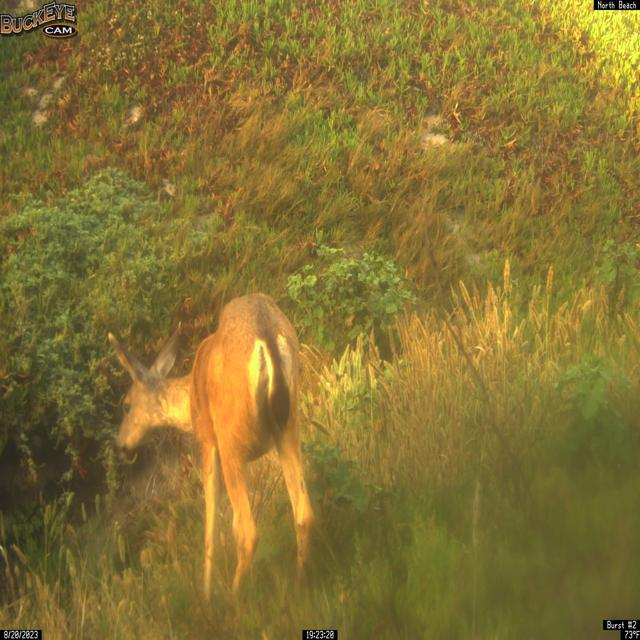deer: (108, 291, 317, 613)
